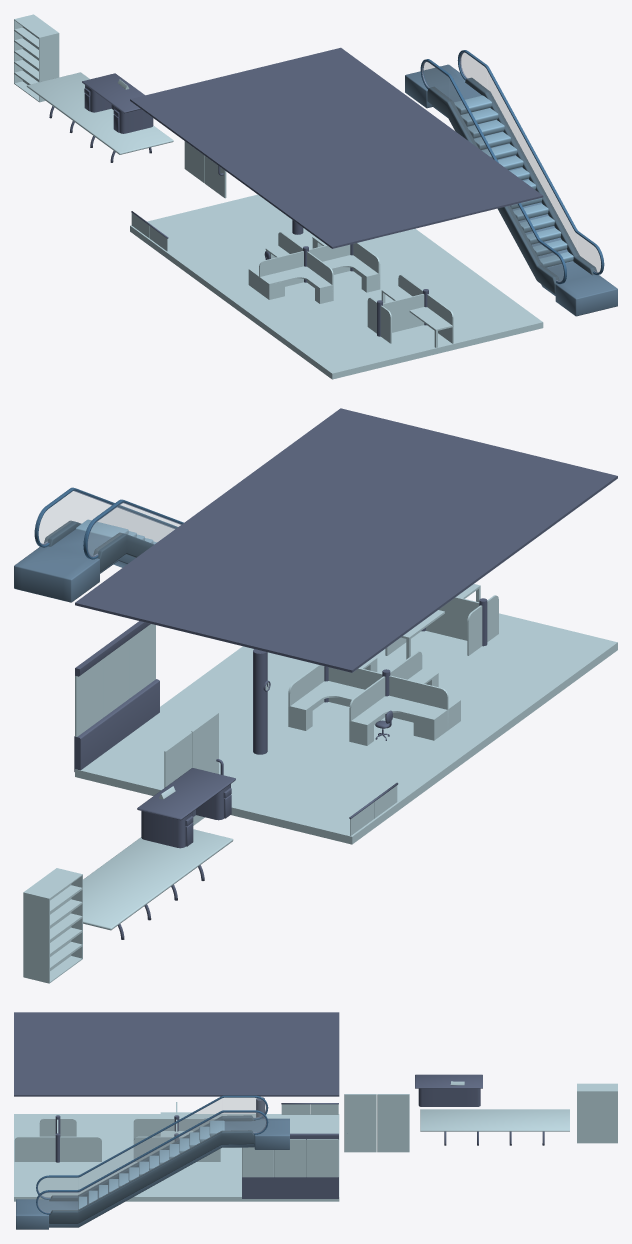
The model's file is Office_Assets_01.fbx.
The picture shows the model from 3 angles, top to bottom: view 1: azimuth 30°, elevation 25°; view 2: azimuth 150°, elevation 25°; view 3: azimuth 270°, elevation 25°; orthographic projection. The views are drawn at different scales.
Visible parts, largest first — view 1: Ceiling Lights, Floor, FullStaircase, Cubicle, Conference Table, Cubicle 2, Shelf, Boss Desk, Glastür, Glaswand, Railing; view 2: Ceiling Lights, Floor, FullStaircase, Cubicle, Window, Conference Table, Shelf, Boss Desk, Cubicle 2, Column, Glastür, Glaswand (+1 smaller); view 3: Ceiling Lights, FullStaircase, Floor, Window, Conference Table, Cubicle 2, Shelf, Boss Desk, Cubicle, Glastür, Glaswand, Railing.
Boxes of the visible parts, x1,y1,x2,y2 form: Ceiling Lights: (130,47,543,248); Floor: (130,194,543,379); FullStaircase: (405,50,617,316); Cubicle: (248,232,380,303); Conference Table: (26,72,173,162); Cubicle 2: (367,275,453,347); Shelf: (14,14,59,102); Boss Desk: (82,73,153,133); Glastür: (205,156,226,198); Glaswand: (184,141,204,183); Railing: (131,211,168,251); Ceiling Lights: (75,408,617,672); Floor: (75,613,617,844); FullStaircase: (14,487,183,602); Cubicle: (288,651,460,745); Window: (74,621,159,771); Conference Table: (83,829,233,939); Shelf: (23,868,82,983); Boss Desk: (137,768,235,848); Cubicle 2: (385,584,498,659); Column: (253,649,267,754); Glastür: (191,712,223,825); Glaswand: (164,732,191,787); Ceiling Lights: (14,1012,339,1096); FullStaircase: (16,1095,289,1229); Floor: (14,1114,339,1201); Window: (242,1133,338,1198); Conference Table: (420,1109,569,1145); Cubicle 2: (14,1115,101,1162); Shelf: (577,1083,617,1143); Boss Desk: (415,1074,482,1106); Cubicle: (133,1102,220,1161); Glastür: (344,1094,376,1152); Glaswand: (377,1094,409,1152); Railing: (281,1103,338,1114).
Bounding box in the file's own units: 840 × 416 × 1895.
